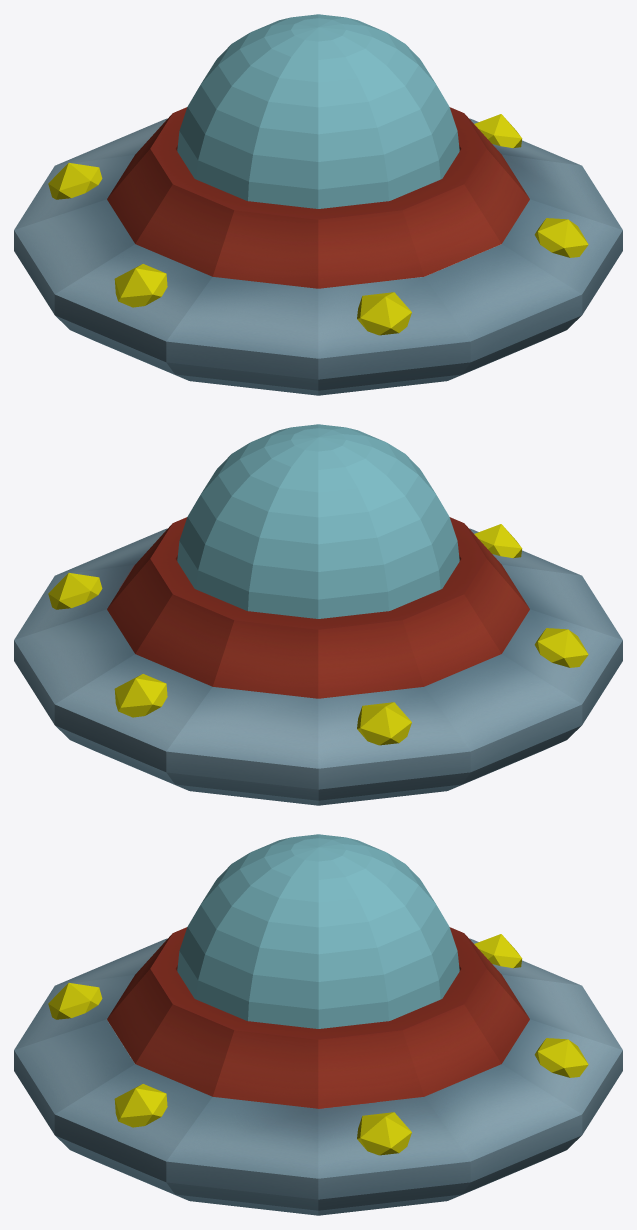
File: Spaceship.fbx
3 views of the same model, one above another, from view 1: azimuth 30°, elevation 25°; view 2: azimuth 150°, elevation 25°; view 3: azimuth 270°, elevation 25° (orthographic).
Visible parts, largest first — view 1: Sphere.001; view 2: Sphere.001; view 3: Sphere.001.
Part boxes in pixels (x1,y1,x2,y2): Sphere.001: [14, 14, 622, 395]; Sphere.001: [14, 424, 622, 805]; Sphere.001: [14, 834, 622, 1215].
Size of the model in its own units: 98.08 by 53.88 by 98.08.
